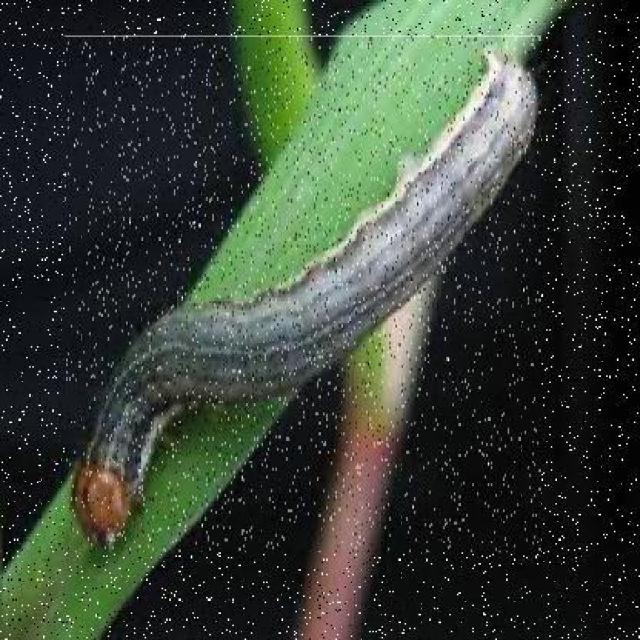Plaga: (66, 36, 543, 555)
